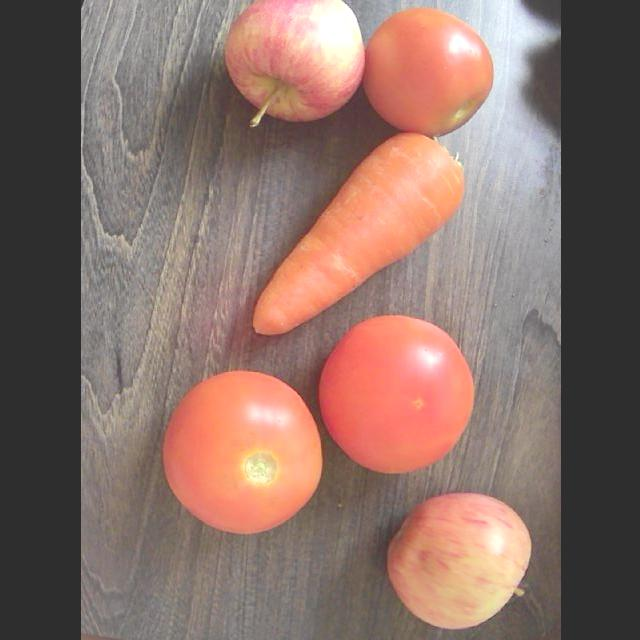manzana: (387, 494, 530, 629), (225, 1, 364, 127)
tomate: (164, 373, 321, 533), (319, 316, 472, 473), (363, 8, 493, 136)
zanahoria: (253, 134, 464, 335)
